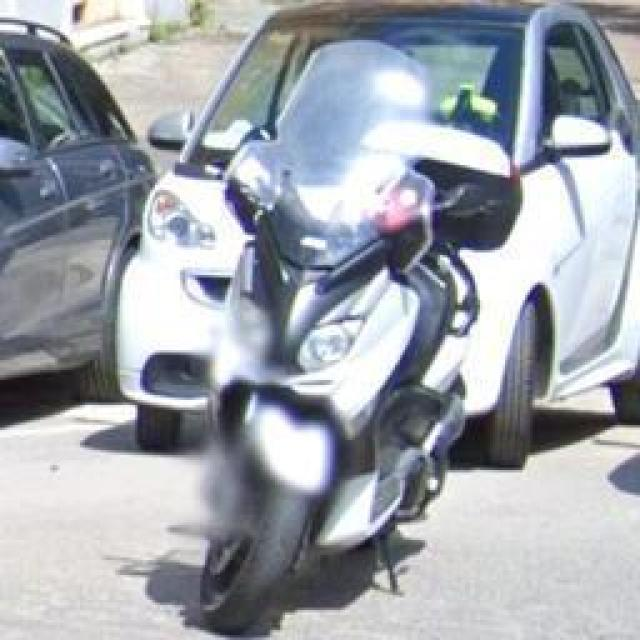car_front: (113, 1, 640, 472)
two_wheeler_front: (192, 120, 524, 640)
